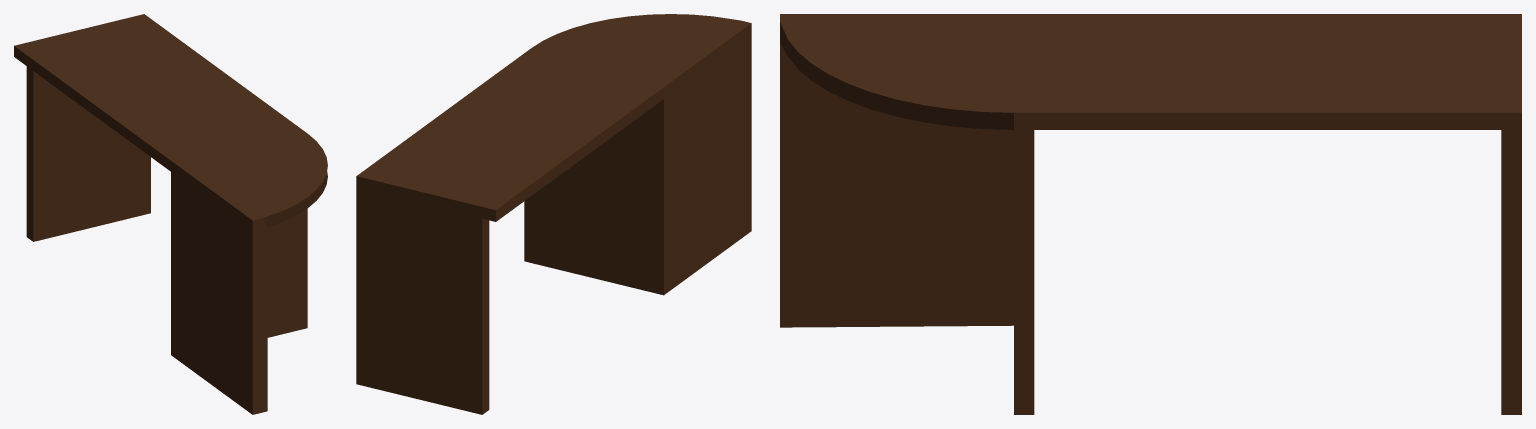
File: desk90.glb
3 renders of one model, left to right at view 1: azimuth 30°, elevation 25°; view 2: azimuth 150°, elevation 25°; view 3: azimuth 270°, elevation 25°, orthographic. The views are drawn at different scales.
Parts seen in each view (by area): view 1: Cube.002; view 2: Cube.002; view 3: Cube.002.
Part boxes in pixels (box(x1,y1,x2,y2)): Cube.002: box(14, 14, 327, 414); Cube.002: box(356, 14, 751, 414); Cube.002: box(780, 14, 1521, 414).
Size of the model in its own units: 1.11 by 1.58 by 3.52.
Materials: 1 (1 with a texture image).
